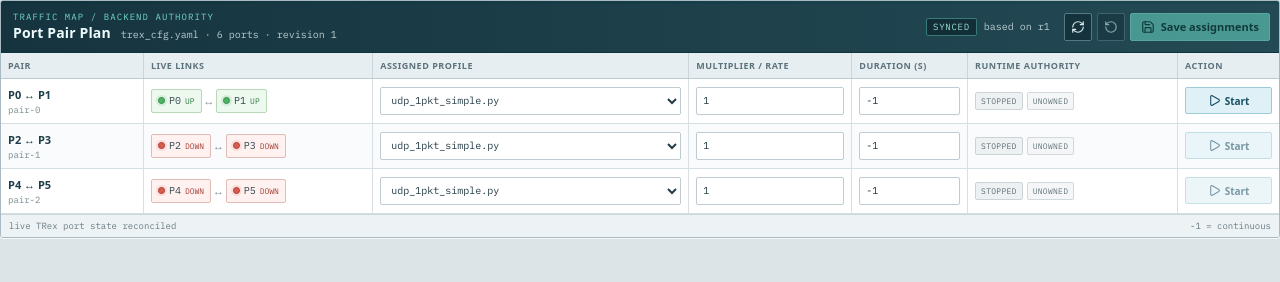
Test case: PortPairPlan › preserves dirty edits when optimistic revision control reports a conflict
Replace the text in the field named "Multiplier or rate for P0 ↔ P1" with "40%" at x=770, y=100, box [696, 86, 844, 114]
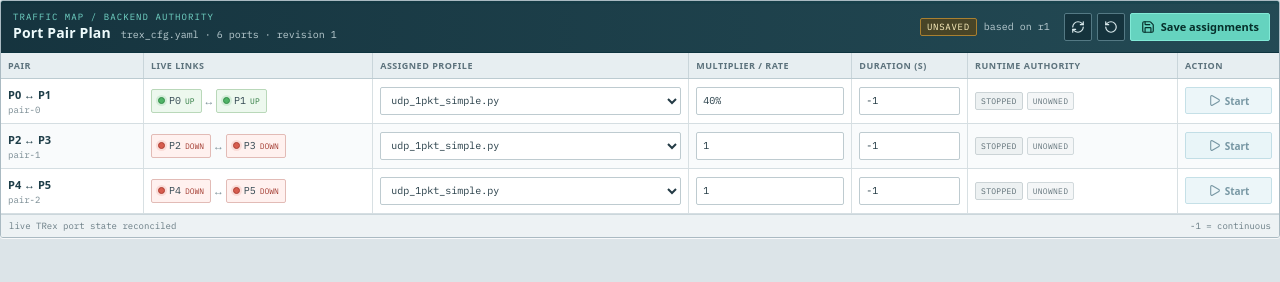
Click the button with aria-label "Save traffic plan" at x=1200, y=26, box [1130, 12, 1270, 40]
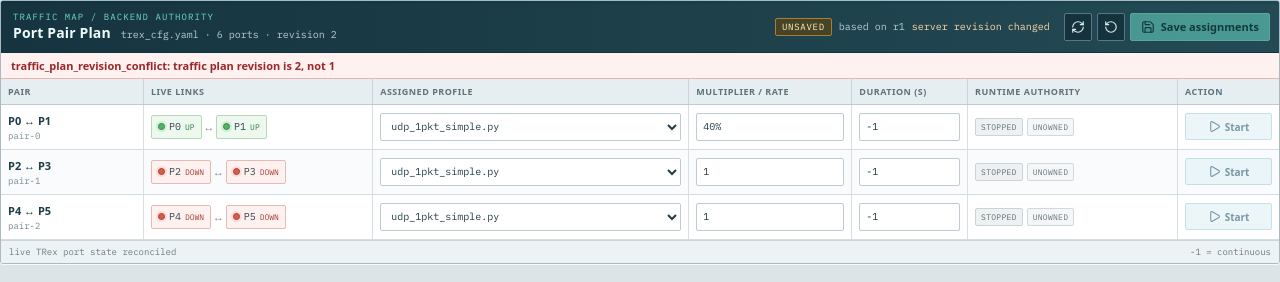
Result: the message reads "traffic_plan_revision_conflict: traffic plan revision is 2, not 1" at [11, 58, 335, 73]
Result: the text "server revision changed" is shown at [912, 20, 1050, 33]
Result: the button with aria-label "Save traffic plan" is disabled at [1130, 12, 1270, 40]
